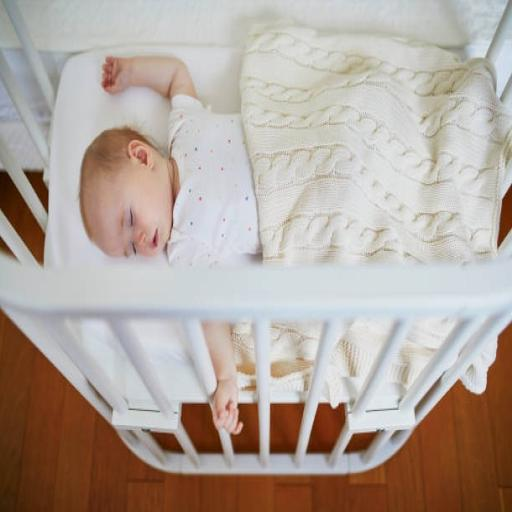baby: (80, 57, 260, 266)
crib: (0, 216, 511, 474)
